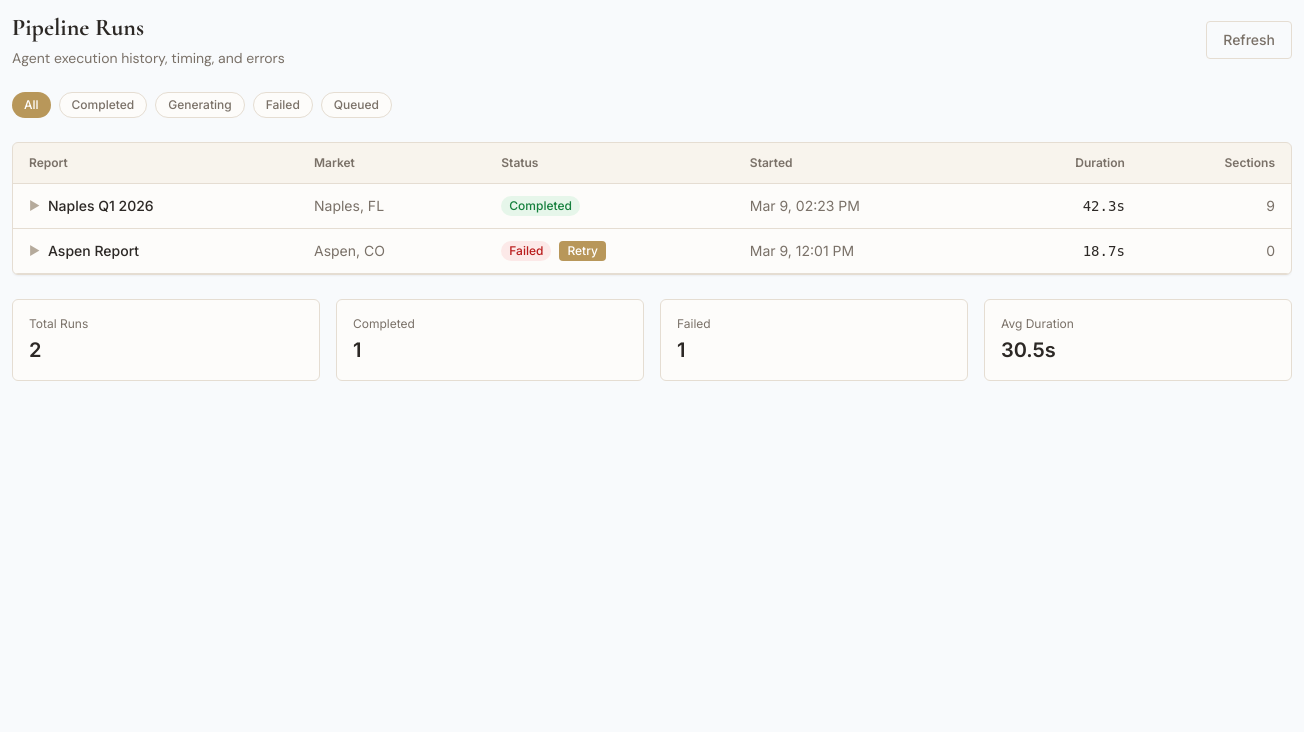
Test: PipelineVisualizer › Expanded details › shows agent breakdown when row is clicked
This screenshot has width=1304, height=732.
Expected: the text "Naples Q1 2026" is shown, x1=48 y1=196 x2=154 y2=216
Click the row with test id "pipeline-run-run-1" at (652, 206), box x1=13 y1=184 x2=1291 y2=228
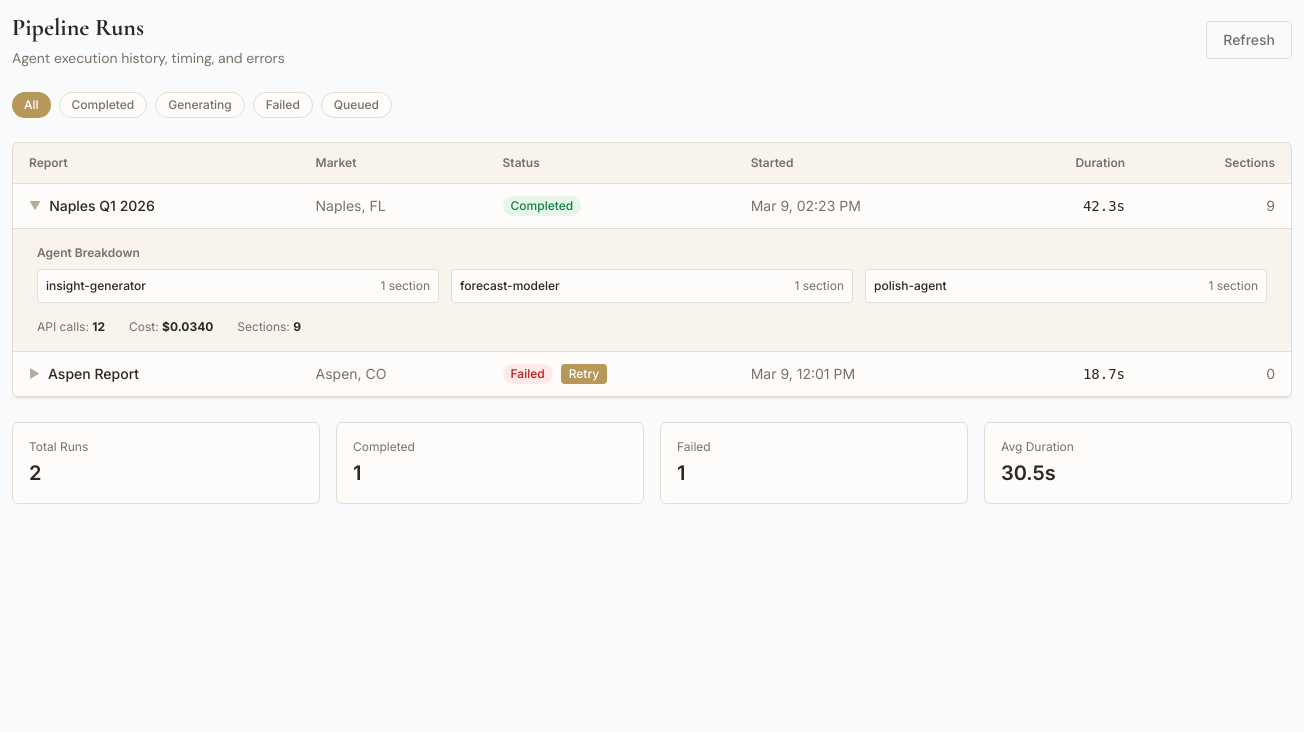
Expected: the text "insight-generator" is shown, x1=46 y1=278 x2=146 y2=294
Expected: the text "forecast-modeler" is shown, x1=460 y1=278 x2=560 y2=294
Expected: the text "polish-agent" is shown, x1=874 y1=278 x2=946 y2=294
